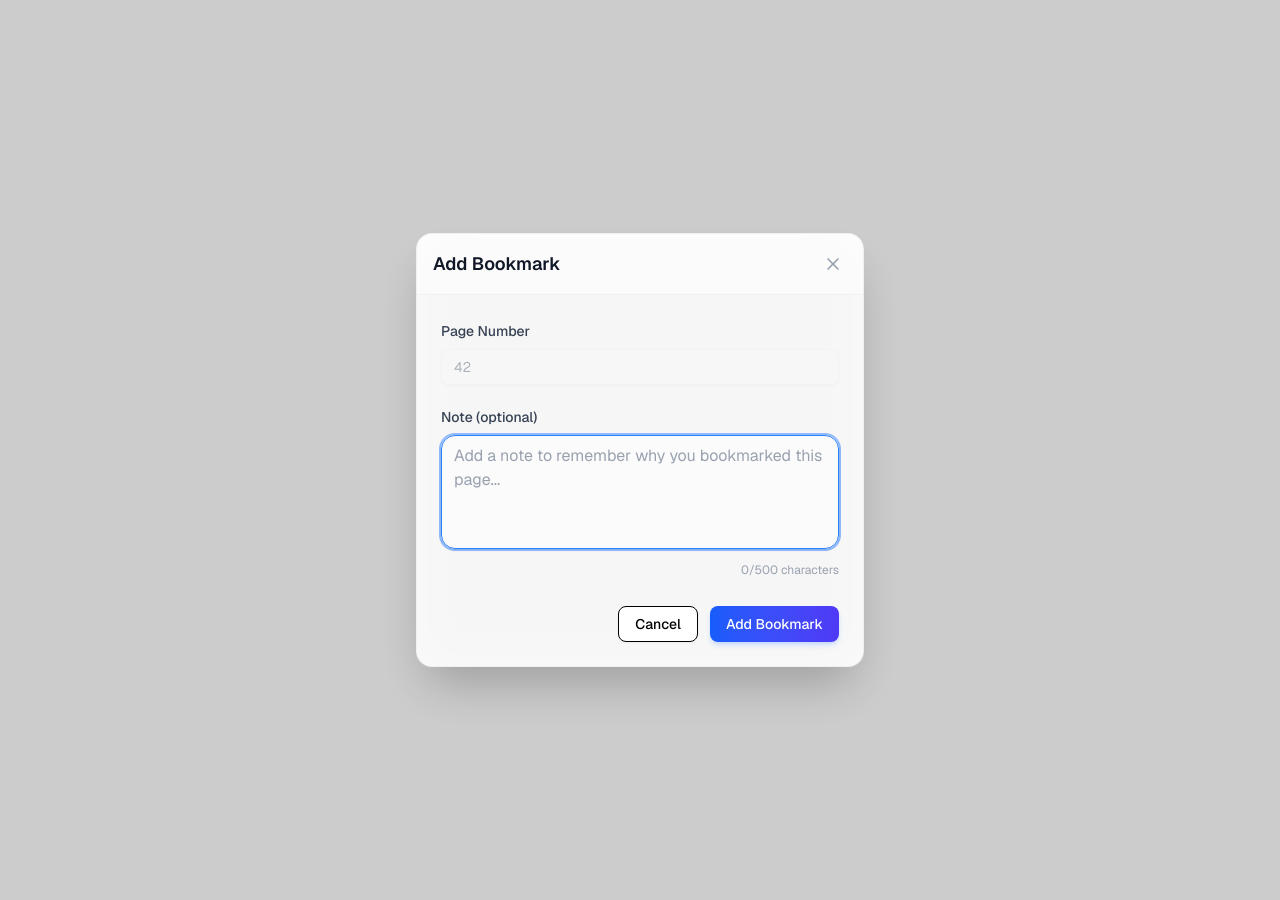
Test: BookmarkForm › Form Interactions › should update character counter as user types
In the text box with placeholder "Add a note to remember why you bookmarked this page...": (640, 492) [441,435,839,549], type "Hello"
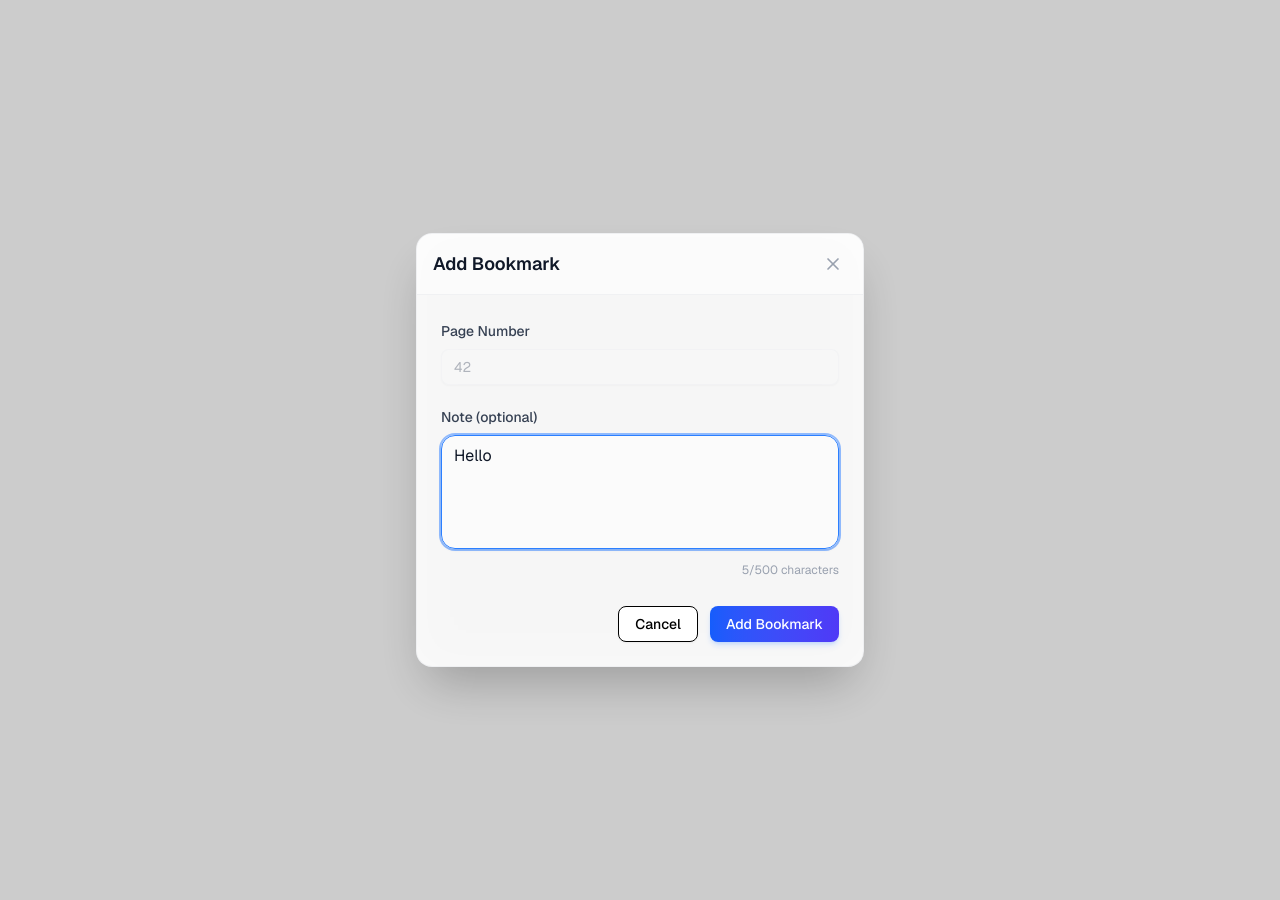
Expected: the text "5/500 characters" is shown, [742,562,839,578]
